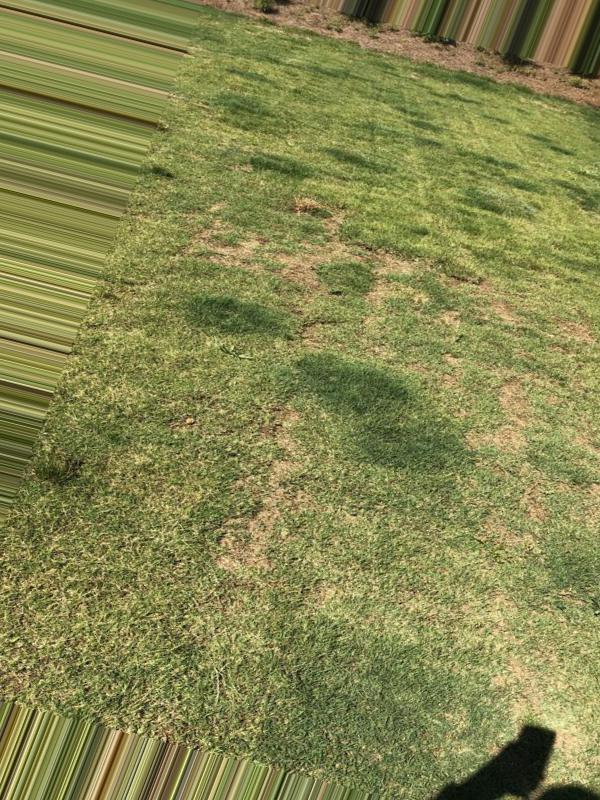patch: (443, 318, 575, 461), (260, 238, 370, 329), (262, 413, 320, 557)
